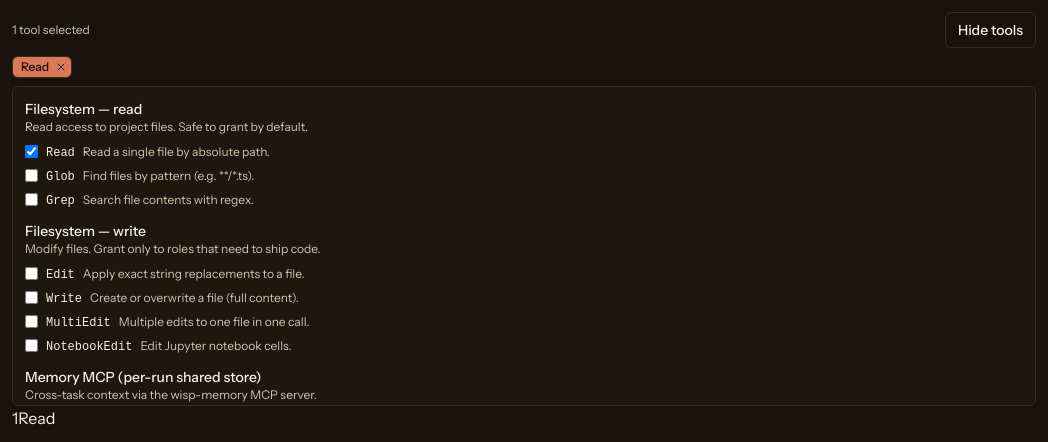
Test: ToolMultiSelect › removes a catalog tool via its remove button
The image size is (1048, 442).
Click the button with test id "tool-chip-remove-Read" at [61, 67], box x1=53 y1=59 x2=69 y2=75
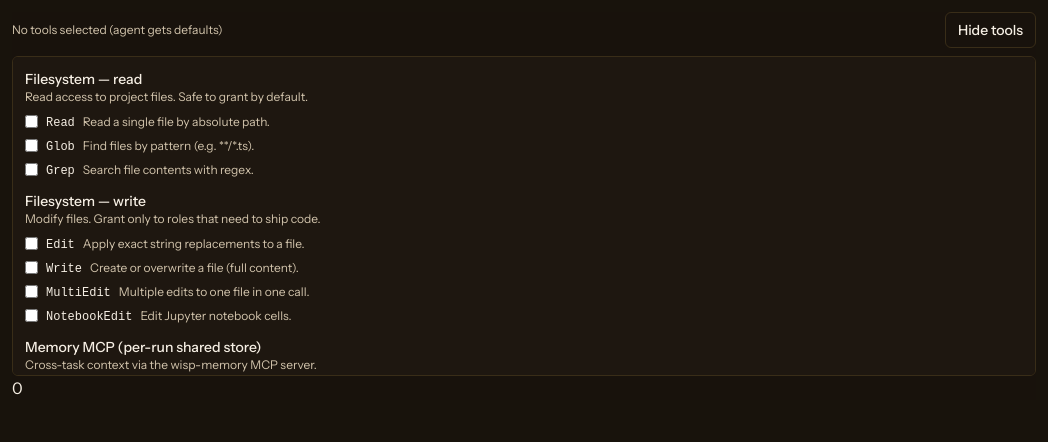
Expected: the text with test id "harness-count" reads "0", x1=12 y1=378 x2=23 y2=398
